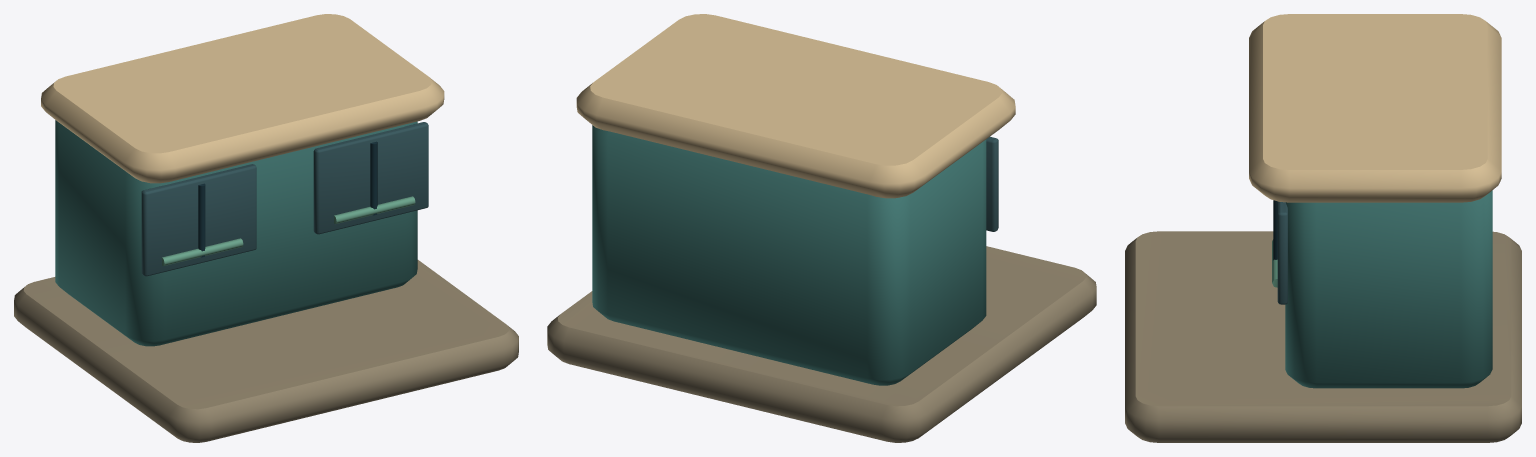
Rendered from annex_wash_3.glb.
3 views of the same model, side by side, from view 1: azimuth 30°, elevation 25°; view 2: azimuth 150°, elevation 25°; view 3: azimuth 270°, elevation 25° (orthographic). The views are drawn at different scales.
Parts seen in each view (by area): view 1: Annex_wash_3; view 2: Annex_wash_3; view 3: Annex_wash_3.
Part boxes in pixels (left/top/right/bottom): Annex_wash_3: left=14, top=14, right=518, bottom=442; Annex_wash_3: left=547, top=14, right=1096, bottom=442; Annex_wash_3: left=1125, top=14, right=1521, bottom=442.
Size of the model in its own units: 1.93 by 1.29 by 1.76.
